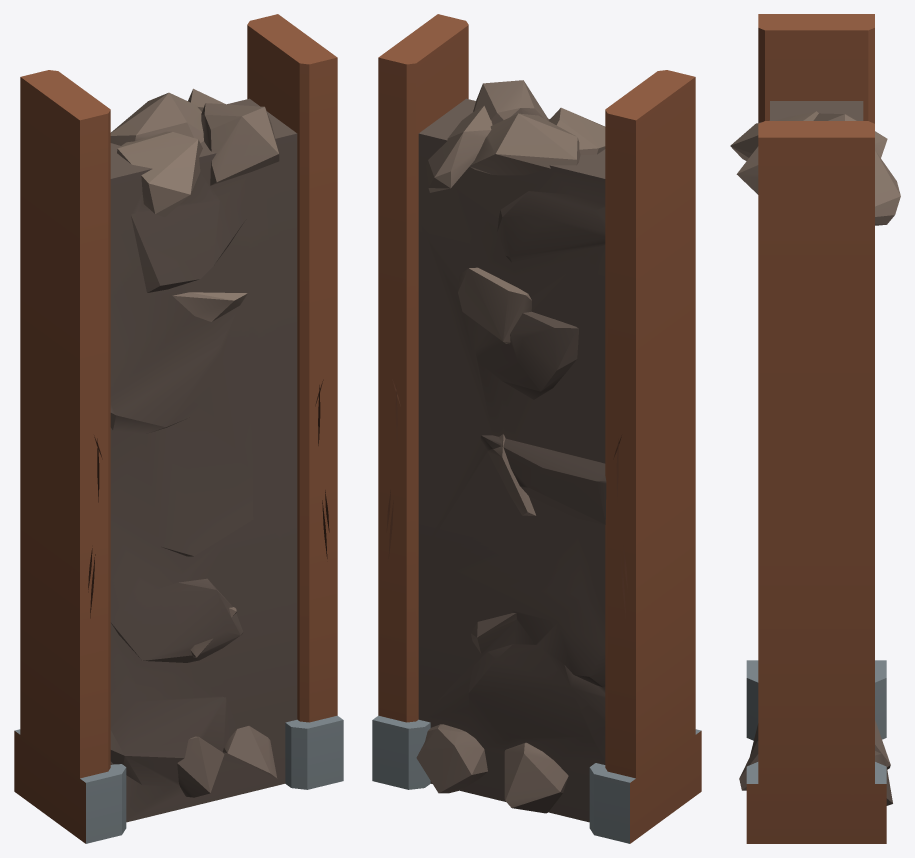
Rendered from wall_cave_junction_short_A.glb.
3 renders of one model, left to right at view 1: azimuth 30°, elevation 25°; view 2: azimuth 150°, elevation 25°; view 3: azimuth 270°, elevation 25°, orthographic.
Visible parts, largest first — view 1: Item; view 2: Item; view 3: Item.
Boxes of the visible parts, x1,y1,x2,y2 form: Item: (14, 14, 343, 843); Item: (372, 14, 701, 843); Item: (730, 14, 900, 843).
Bounding box in the file's own units: 1.5 × 4 × 0.8769.
Materials: 1 (1 with a texture image).
